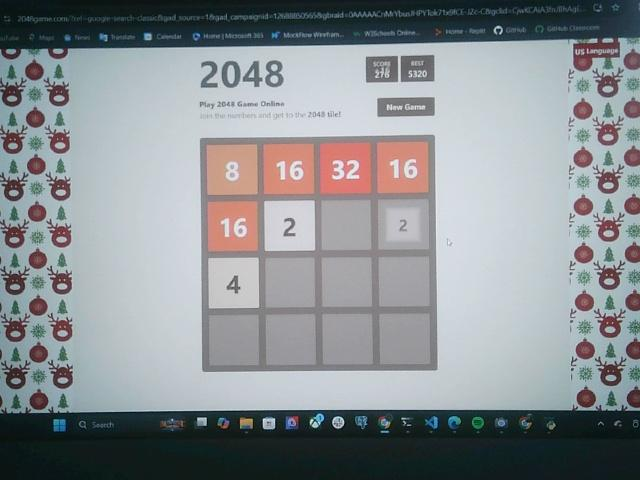best_score_box: (401, 55, 435, 83)
board: (201, 138, 437, 370)
button: (378, 98, 434, 117)
score_box: (367, 56, 399, 82)
tile: (321, 142, 372, 196), (208, 257, 259, 309), (208, 202, 259, 253), (208, 146, 258, 196), (378, 143, 428, 193), (265, 145, 315, 194), (265, 201, 314, 251)
